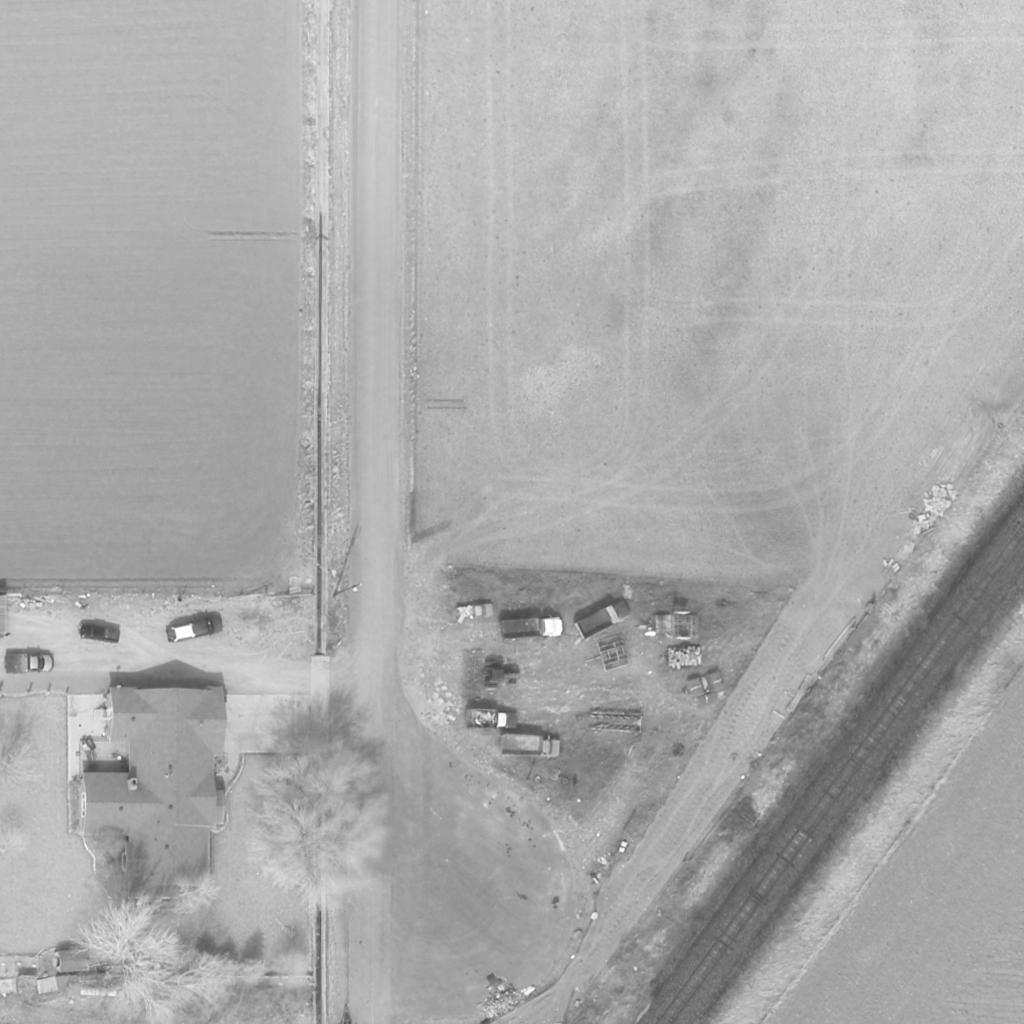vehicle: (574, 598, 634, 642), (165, 615, 227, 647), (500, 617, 562, 641), (497, 736, 561, 758), (482, 659, 522, 693), (468, 710, 518, 730), (2, 655, 56, 671), (76, 625, 122, 643), (456, 601, 496, 621)
